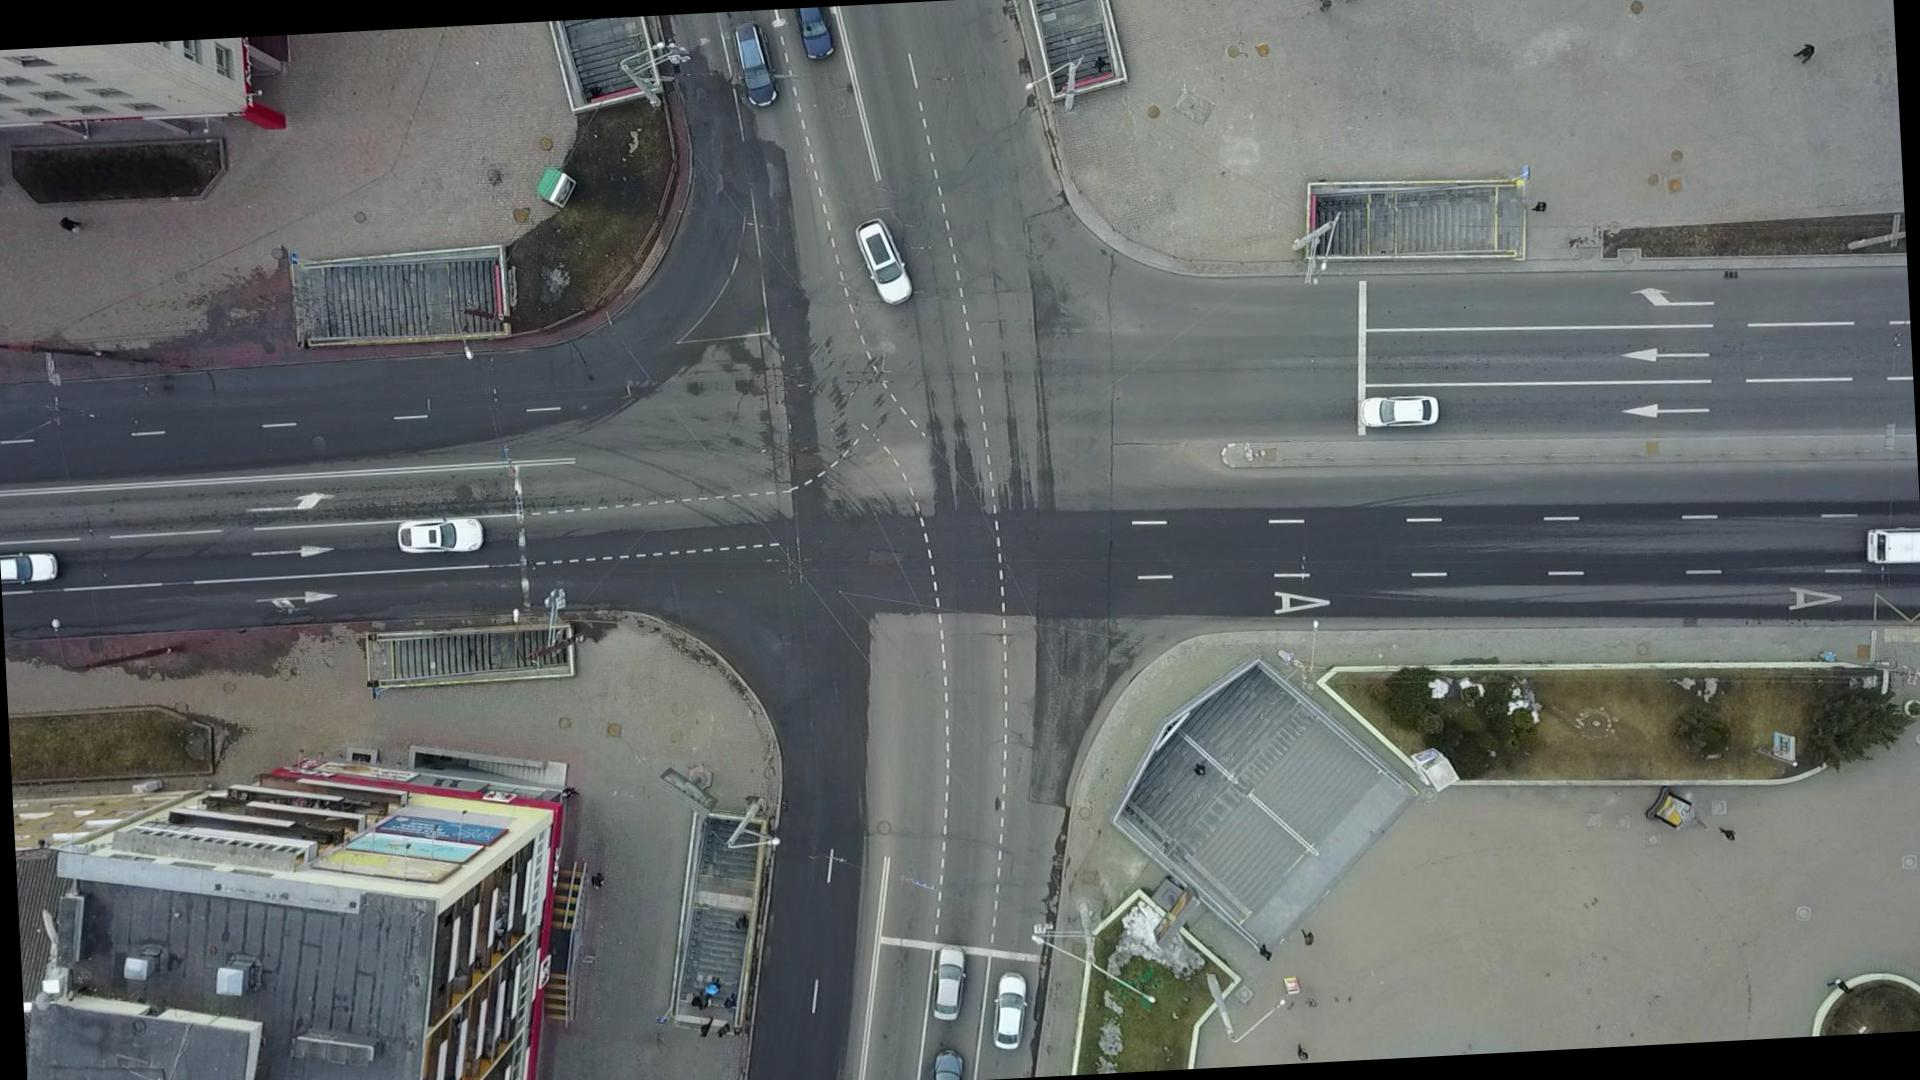vehicle: (851, 214, 915, 309), (728, 18, 782, 109), (396, 513, 487, 555), (988, 968, 1030, 1054), (927, 943, 971, 1023), (1356, 393, 1443, 430)
